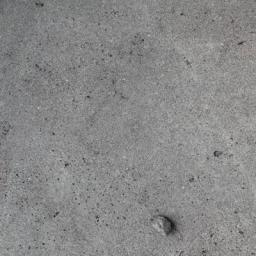FOD: (147, 211, 178, 240)
